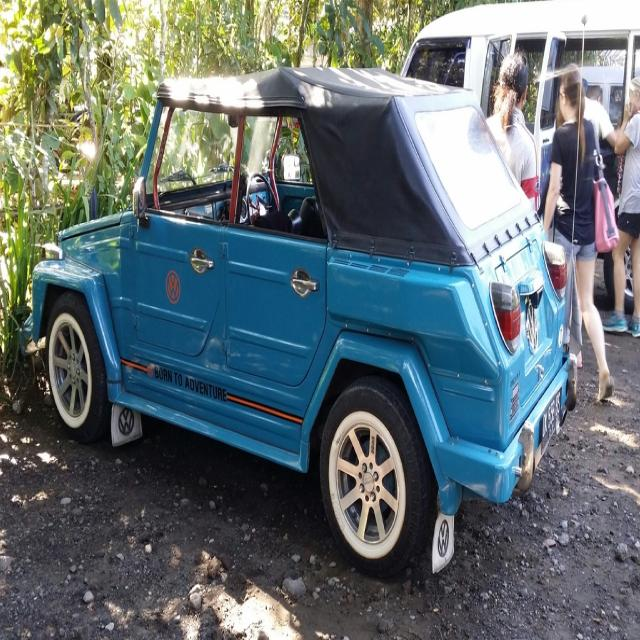car: (41, 59, 581, 568)
